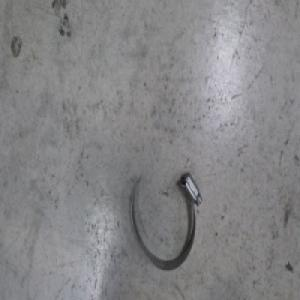AdjustableClamp: (129, 170, 202, 274)
